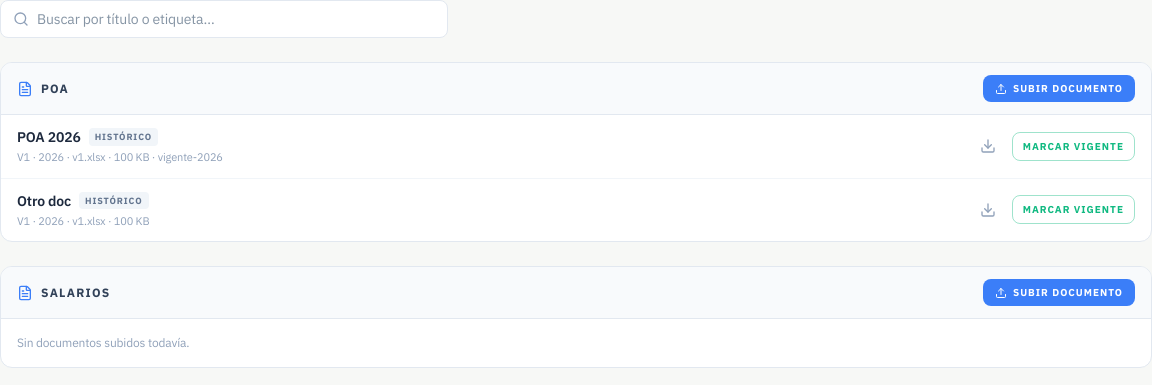
Scenario: OperationalDocumentsView › la búsqueda filtra por etiqueta
The image size is (1152, 385).
Type "vigente-2026" into the field with placeholder "Buscar por título o etiqueta…" at (236, 19), box 37,9 -> 435,29
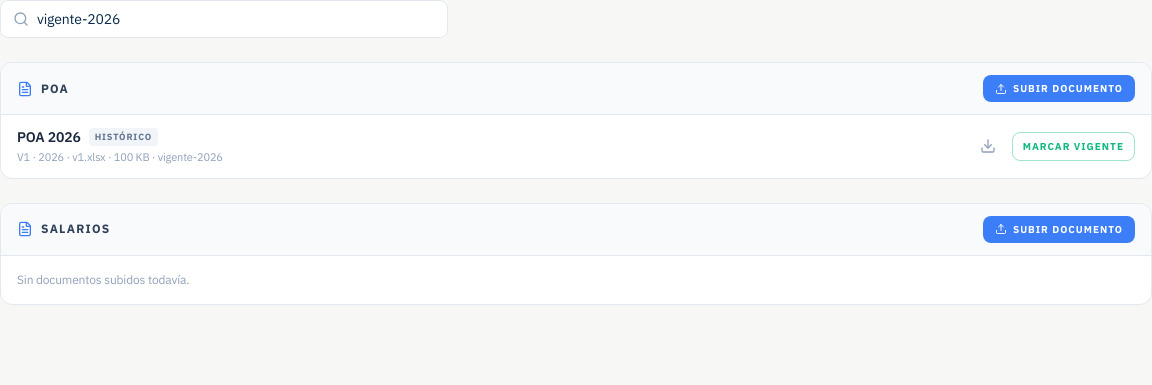
Check: the text "POA 2026" is shown, box 17,127 -> 81,147
Check: the text "Otro doc" is gone
